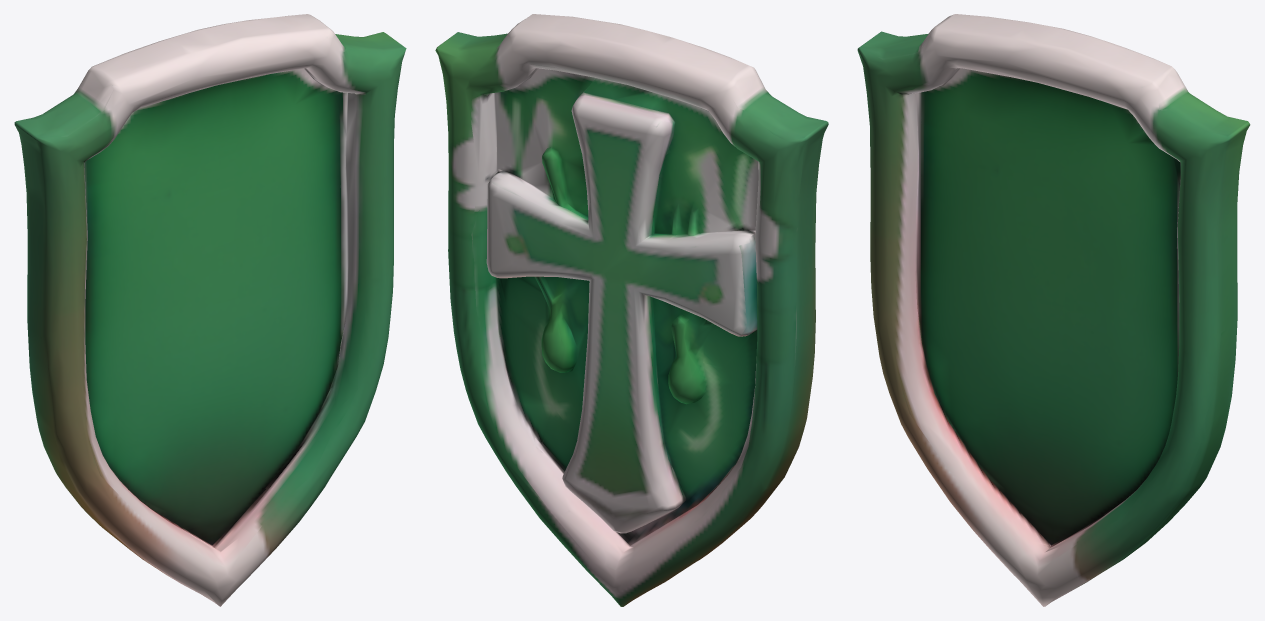
3 renders of one model, left to right at view 1: azimuth 30°, elevation 25°; view 2: azimuth 150°, elevation 25°; view 3: azimuth 330°, elevation 25°, orthographic.
Parts seen in each view (by area): view 1: support; view 2: support; view 3: support.
Part boxes in pixels (x1,y1,x2,y2): support: (14, 14, 406, 606); support: (435, 14, 828, 606); support: (857, 14, 1250, 606).
Bounding box in the file's own units: 0.3858 × 0.56 × 0.0666.
1 material, 1 textured.
